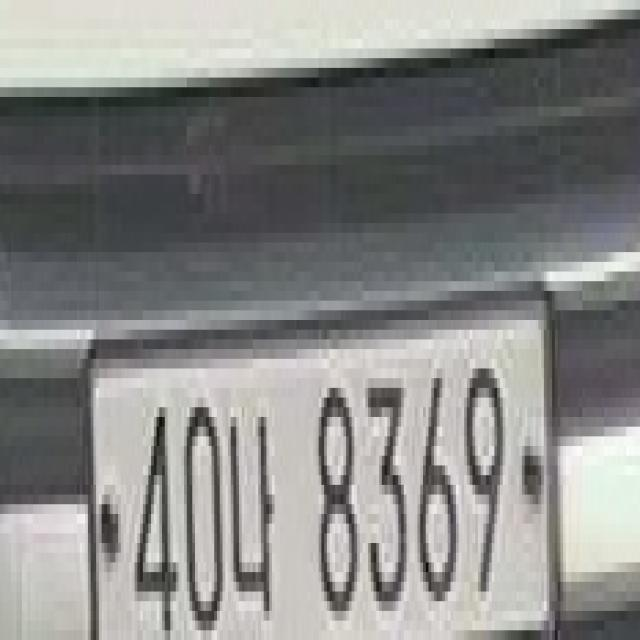0: (179, 388, 225, 640)
3: (363, 368, 409, 620)
4: (131, 397, 178, 640)
6: (414, 359, 458, 611)
8: (313, 368, 363, 620)
9: (464, 349, 506, 601)
license_plate: (82, 271, 560, 640)
na: (230, 388, 274, 611)
